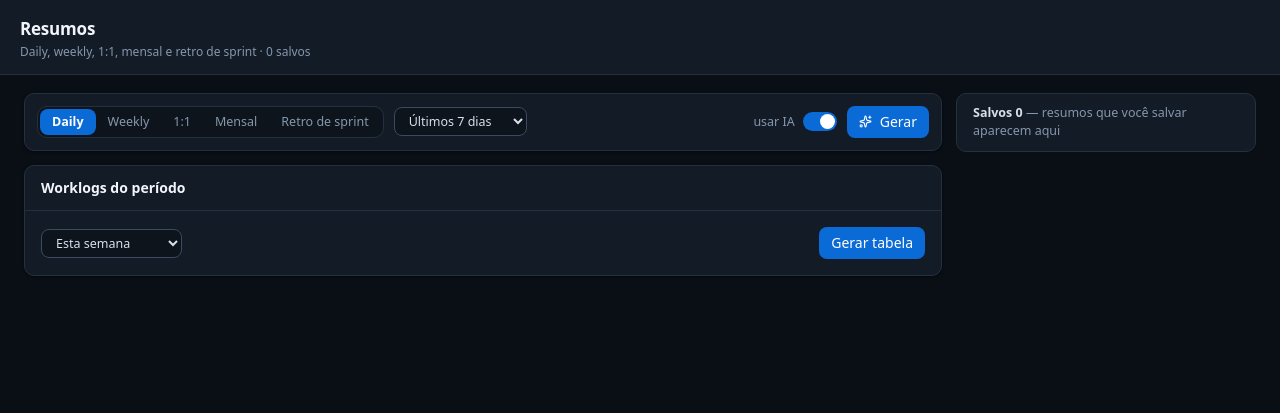
Summaries › fallback: pediu IA mas veio de template — mostra aviso
Expected: the switch is enabled, [803,112,837,131]
Click the button "Gerar" at (888, 122), box [847,106,929,138]
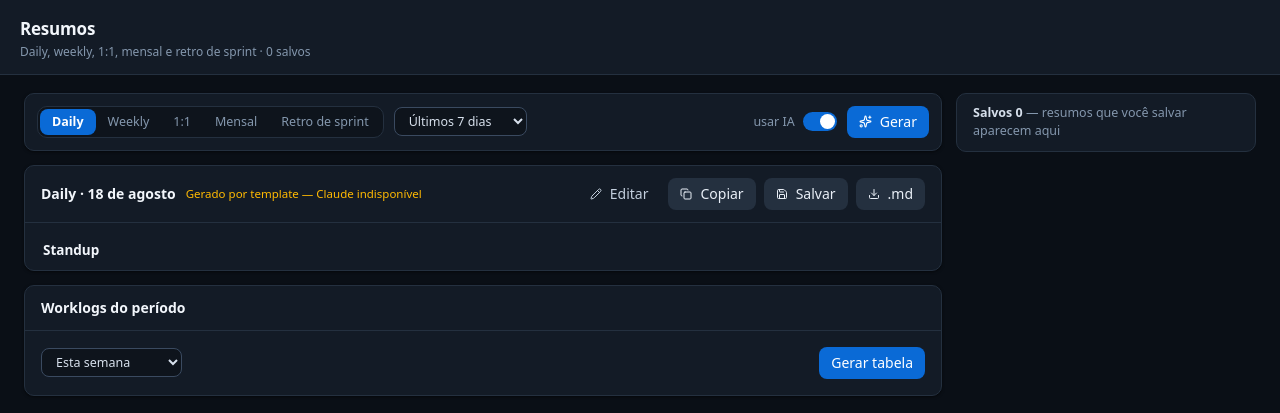
Now the text "Gerado por template — Claude indisponível" is shown, box [186,186,422,202]
